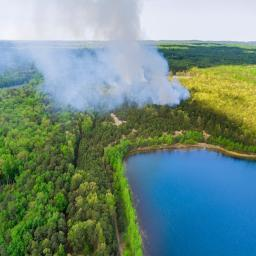Low smoke: (0, 0, 216, 125)
